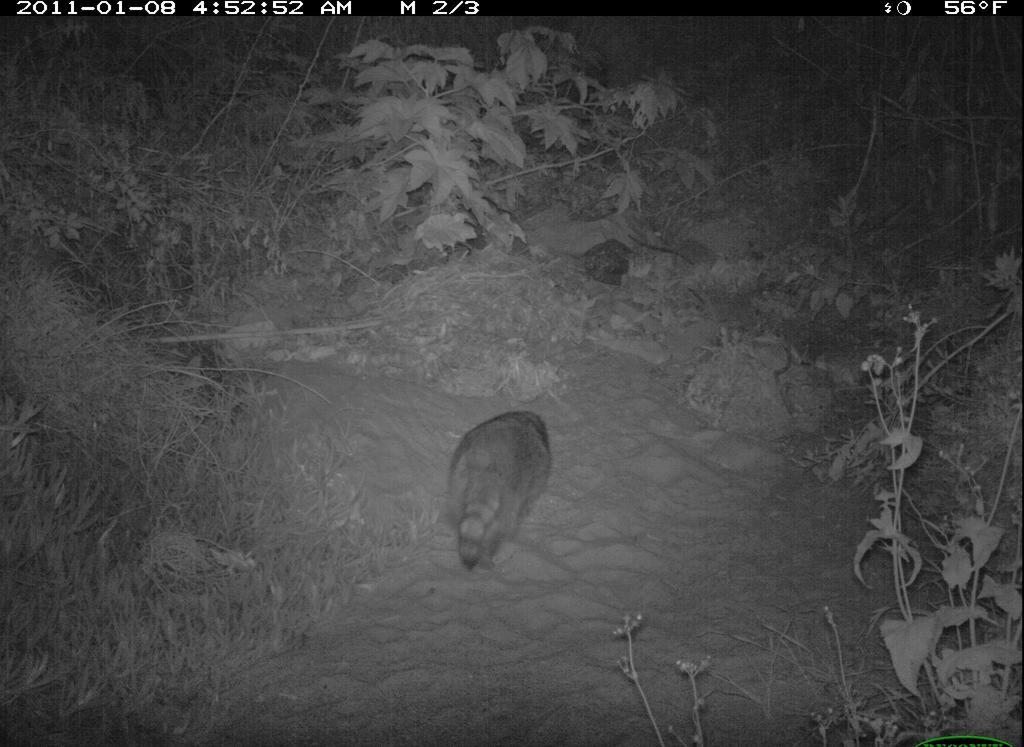raccoon: (424, 395, 566, 596)
